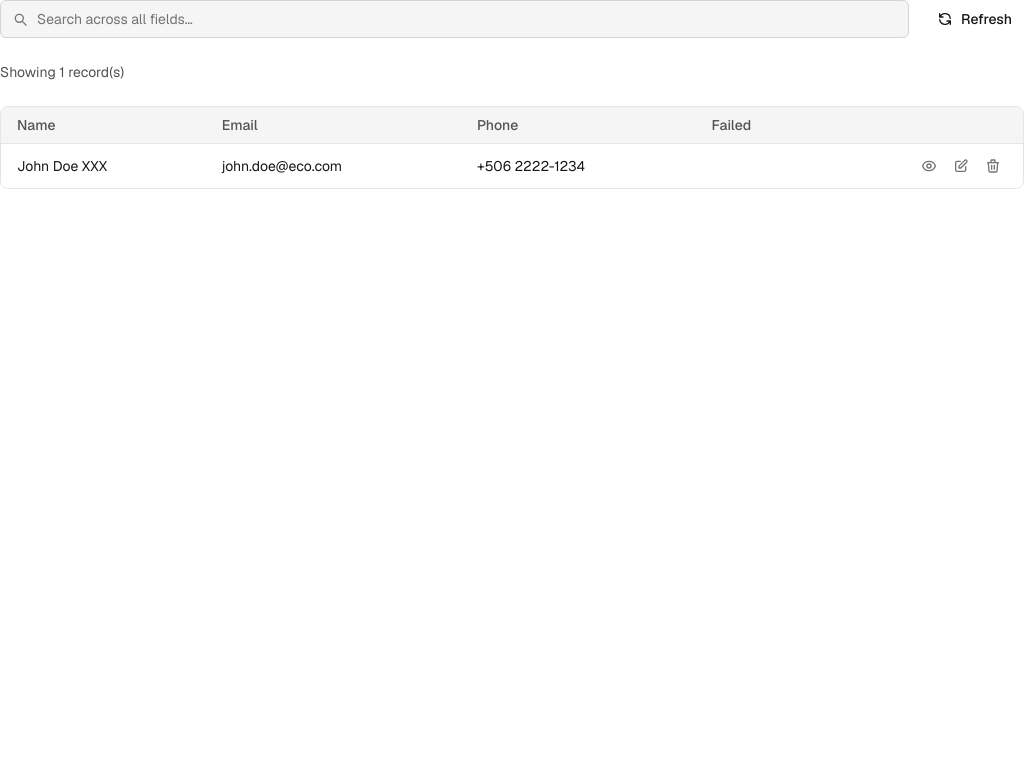
Test: RecordsList record details › shows every populated field in the details view, not just the table columns
Expected: the text "John Doe XXX" is shown, [1,144,206,188]
Step 1. Click the button named "View all fields" → (929,166), box [915,152,943,180]
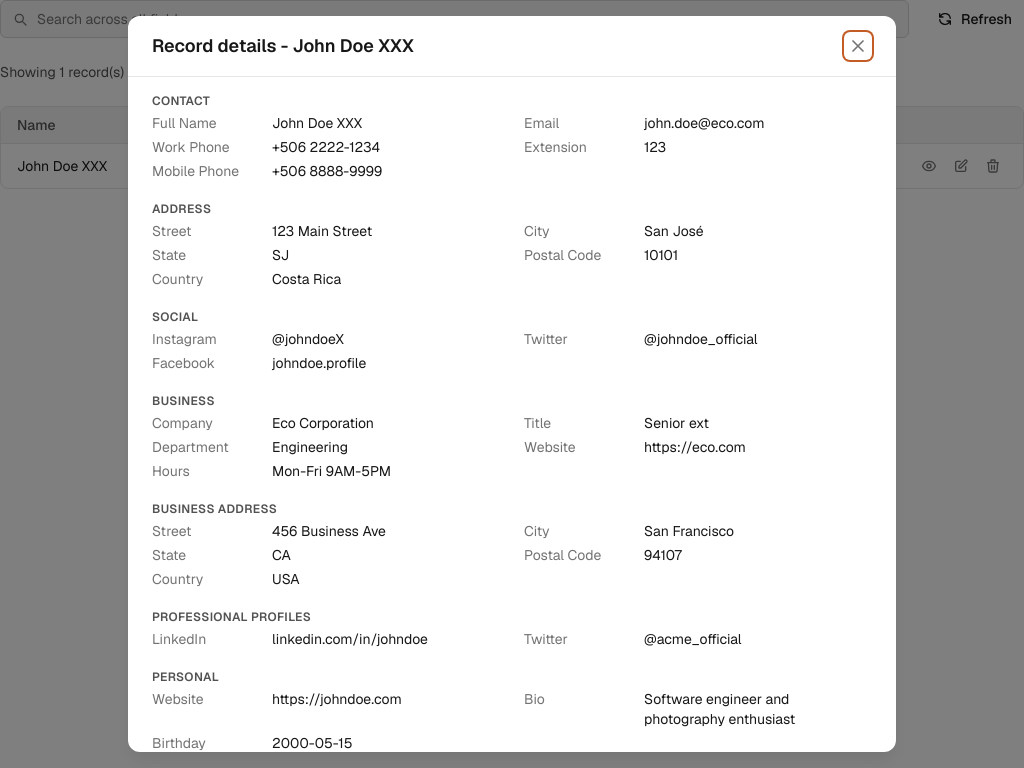
Now the text "123 Main Street" is shown, box [272,221,372,241]
Now the text "@johndoeX" is shown, box [272,329,344,349]
Now the text "Mon-Fri 9AM-5PM" is shown, box [272,461,391,481]
